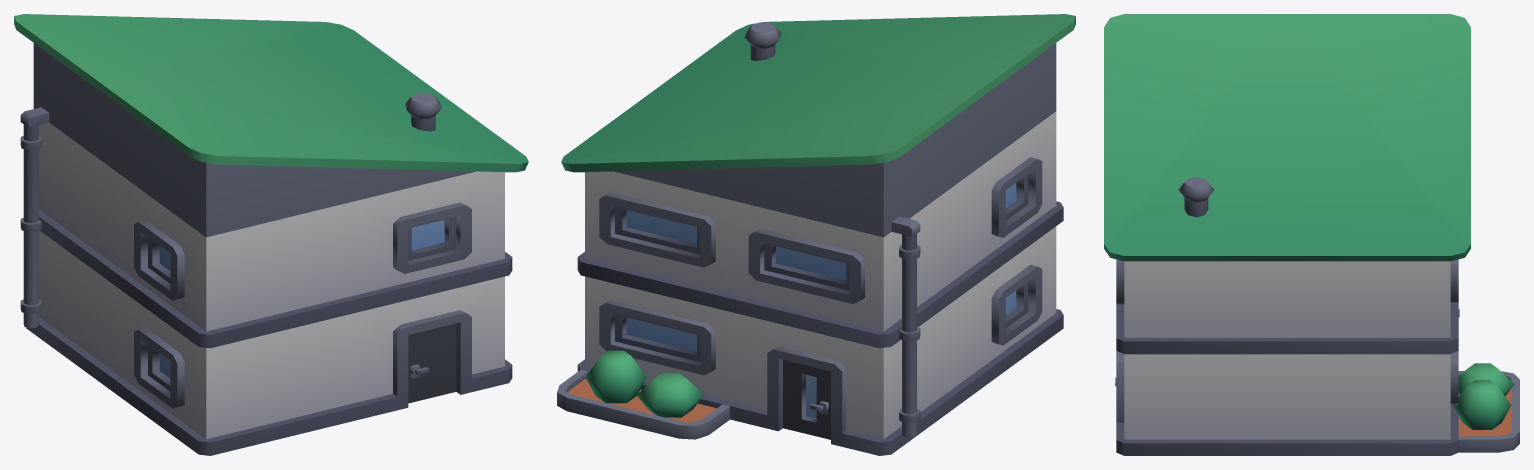
File: villaD.glb
3 renders of one model, left to right at view 1: azimuth 30°, elevation 25°; view 2: azimuth 150°, elevation 25°; view 3: azimuth 270°, elevation 25°, orthographic. The views are drawn at different scales.
Visible parts, largest first — view 1: villaD; view 2: villaD; view 3: villaD.
Part boxes in pixels (x1,y1,x2,y2): villaD: [14, 14, 528, 455]; villaD: [557, 14, 1075, 455]; villaD: [1104, 14, 1519, 455].
Size of the model in its own units: 10 by 8.6 by 11.08.
